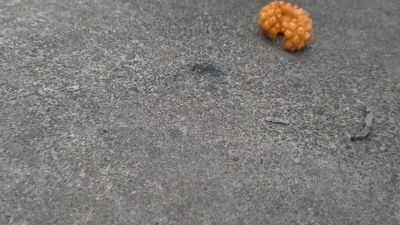eggs: (256, 1, 314, 53)
